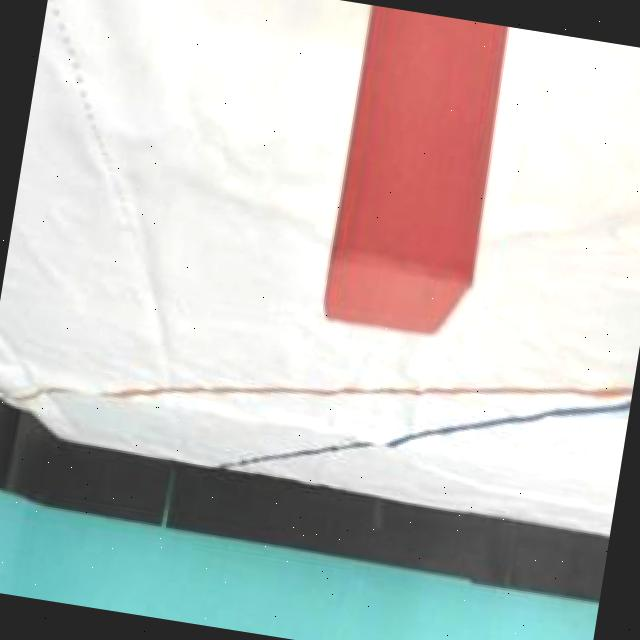redbox: (322, 4, 508, 338)
